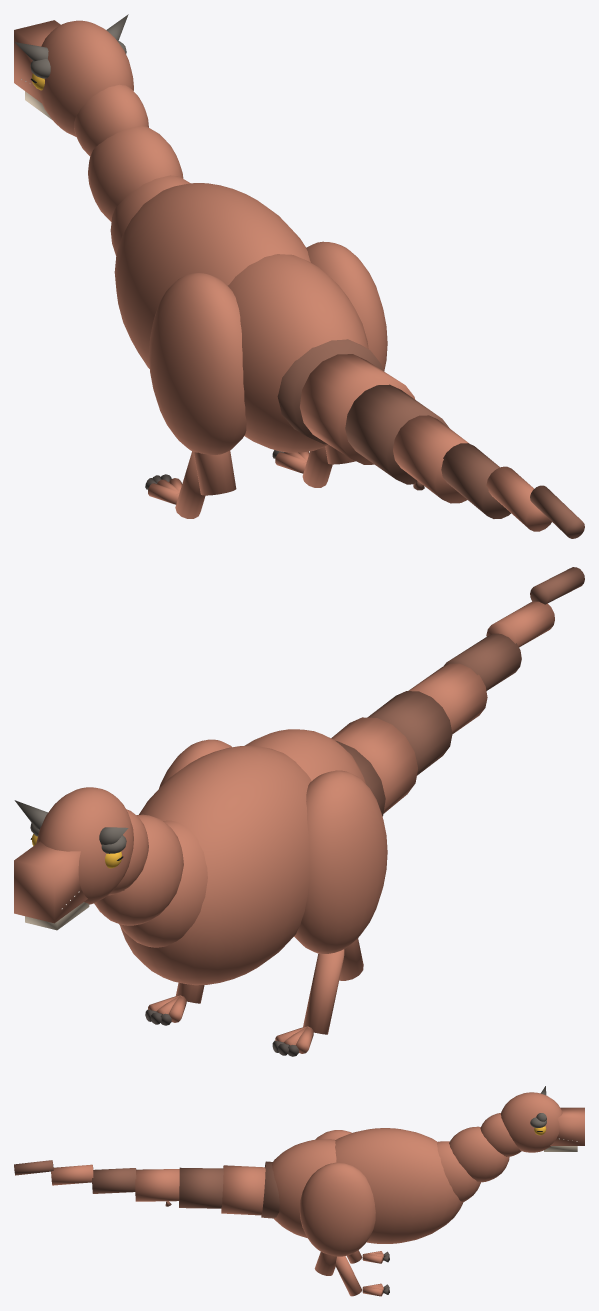
The model's file is carnotaurus.glb.
The picture shows the model from 3 angles, top to bottom: view 1: azimuth 30°, elevation 25°; view 2: azimuth 150°, elevation 25°; view 3: azimuth 270°, elevation 25°; orthographic projection. The views are drawn at different scales.
Parts seen in each view (by area): view 1: Torso, Thigh_R, Pelvis, Cranium, Tail_1, Neck_1, Tail_2, Thigh_L, Tail_3, Neck_2, Tail_0, Tail_4 (+7 smaller); view 2: Torso, Thigh_R, Cranium, Neck_1, Snout, Neck_0, Tail_1, Tail_2, Pelvis, Tail_3, Tail_4, Metatarsal_R (+6 smaller); view 3: Torso, Thigh_L, Pelvis, Cranium, Tail_1, Neck_1, Tail_2, Tail_3, Neck_0, Tail_4, Snout, Neck_2 (+5 smaller).
Part boxes in pixels (bbox=[...]): Torso: bbox=[114, 183, 310, 368]; Thigh_R: bbox=[149, 273, 246, 454]; Pelvis: bbox=[228, 254, 368, 452]; Cranium: bbox=[37, 20, 133, 136]; Tail_1: bbox=[300, 354, 415, 464]; Neck_1: bbox=[88, 126, 183, 221]; Tail_2: bbox=[345, 384, 449, 484]; Thigh_L: bbox=[306, 241, 387, 371]; Tail_3: bbox=[393, 415, 469, 503]; Neck_2: bbox=[74, 84, 148, 156]; Tail_0: bbox=[277, 339, 382, 444]; Tail_4: bbox=[441, 443, 511, 518]; Torso: bbox=[120, 745, 311, 985]; Thigh_R: bbox=[294, 770, 387, 953]; Cranium: bbox=[36, 787, 133, 904]; Neck_1: bbox=[94, 814, 183, 925]; Snout: bbox=[14, 841, 87, 923]; Neck_0: bbox=[119, 820, 207, 947]; Tail_1: bbox=[331, 717, 417, 813]; Tail_2: bbox=[367, 691, 452, 775]; Pelvis: bbox=[244, 729, 365, 783]; Tail_3: bbox=[408, 663, 487, 734]; Tail_4: bbox=[443, 633, 521, 690]; Metatarsal_R: bbox=[303, 949, 344, 1034]; Torso: bbox=[335, 1128, 463, 1243]; Thigh_L: bbox=[299, 1162, 375, 1256]; Pelvis: bbox=[272, 1139, 336, 1237]; Cranium: bbox=[500, 1092, 562, 1152]; Tail_1: bbox=[221, 1165, 265, 1215]; Neck_1: bbox=[449, 1126, 509, 1182]; Tail_2: bbox=[179, 1167, 223, 1208]; Tail_3: bbox=[135, 1169, 179, 1201]; Neck_0: bbox=[437, 1141, 480, 1201]; Tail_4: bbox=[92, 1168, 136, 1193]; Snout: bbox=[550, 1107, 584, 1145]; Neck_2: bbox=[480, 1113, 521, 1156].
Size of the model in its own units: 1.58 by 2.53 by 7.09.
